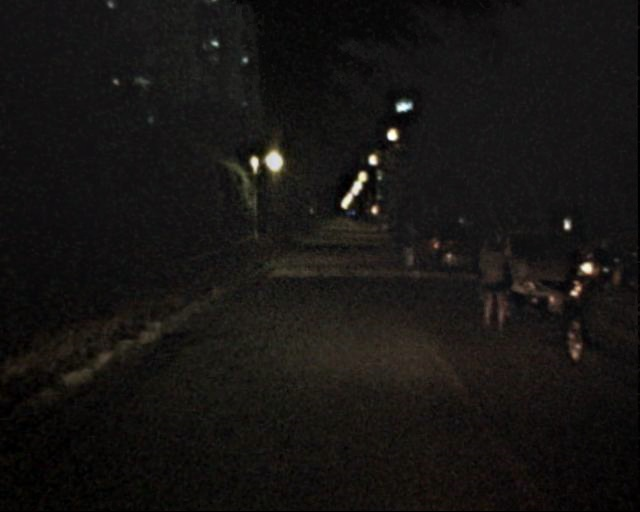person: (469, 231, 510, 332), (399, 222, 417, 267), (387, 224, 403, 263)
